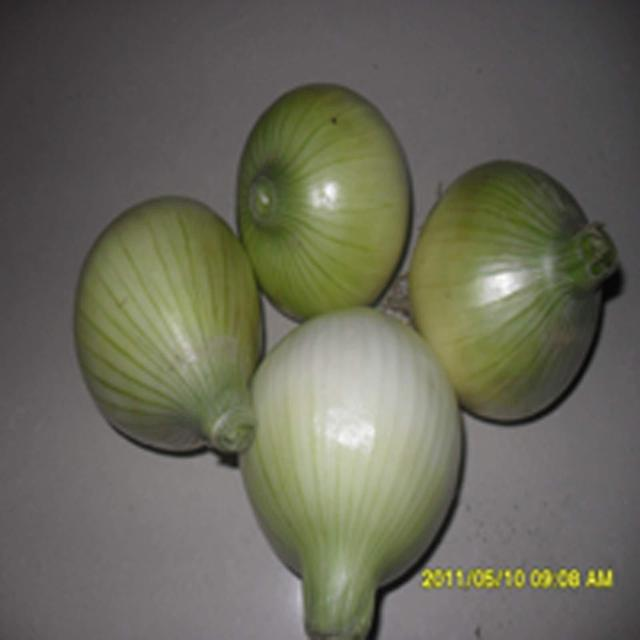Onion: (241, 309, 465, 640), (408, 162, 620, 420), (74, 198, 267, 456), (238, 83, 414, 323)
